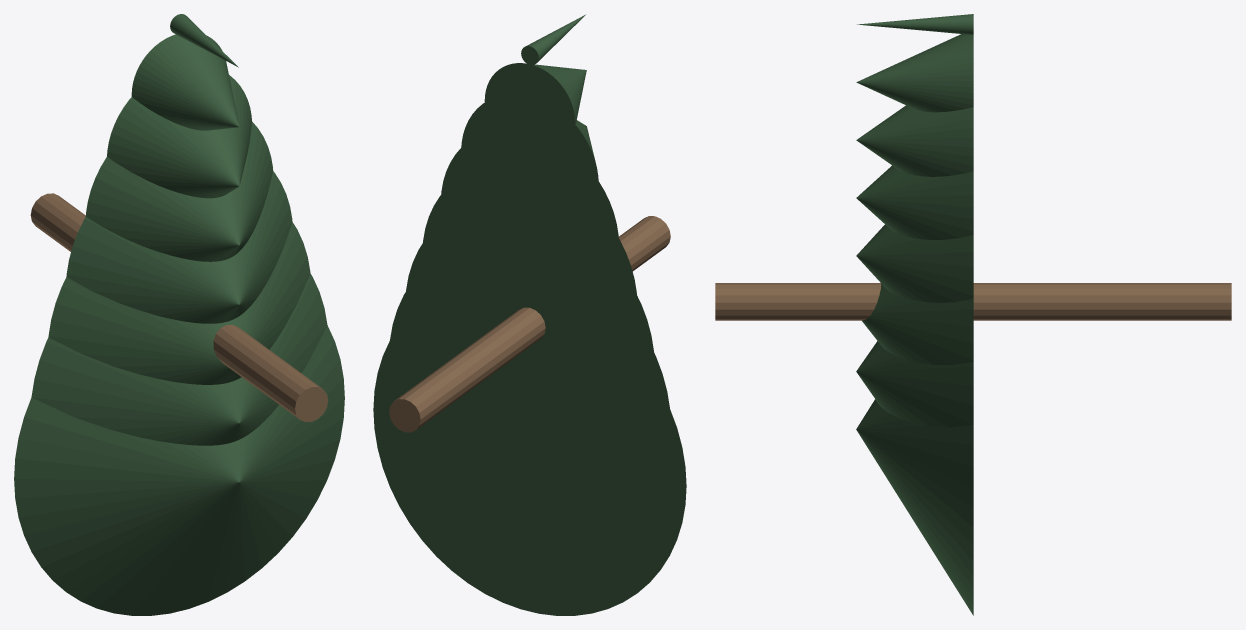
The model's file is pine-tree-1000.glb.
3 views of the same model, side by side, from view 1: azimuth 30°, elevation 25°; view 2: azimuth 150°, elevation 25°; view 3: azimuth 270°, elevation 25° (orthographic). The views are drawn at different scales.
Parts seen in each view (by area): view 1: foliage, trunk; view 2: foliage, trunk; view 3: foliage, trunk.
Part boxes in pixels (bbox=[...]): foliage: bbox=[14, 14, 344, 615]; trunk: bbox=[30, 193, 328, 422]; foliage: bbox=[373, 14, 686, 615]; trunk: bbox=[389, 216, 670, 432]; foliage: bbox=[856, 14, 973, 615]; trunk: bbox=[715, 283, 1231, 320].
Bounding box in the file's own units: 6.36 × 10.97 × 8.8.
